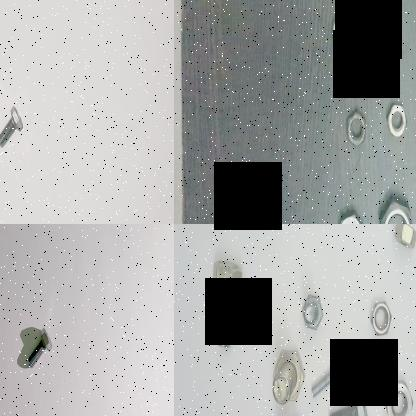Bolts: (200, 250, 247, 350), (266, 346, 308, 412), (308, 349, 354, 402), (323, 387, 373, 416), (295, 290, 327, 334), (0, 100, 25, 153), (25, 323, 52, 370)
NUTS: (380, 371, 416, 416), (344, 98, 370, 150), (365, 294, 394, 340), (377, 195, 416, 224), (330, 4, 352, 54), (384, 98, 406, 148), (390, 224, 416, 254), (332, 204, 366, 224)
